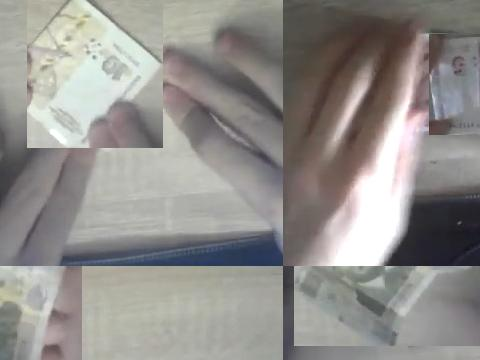10leva: (27, 0, 163, 148), (294, 266, 472, 346)
5leva: (429, 36, 480, 135)
